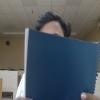notebook: (22, 27, 99, 99)
